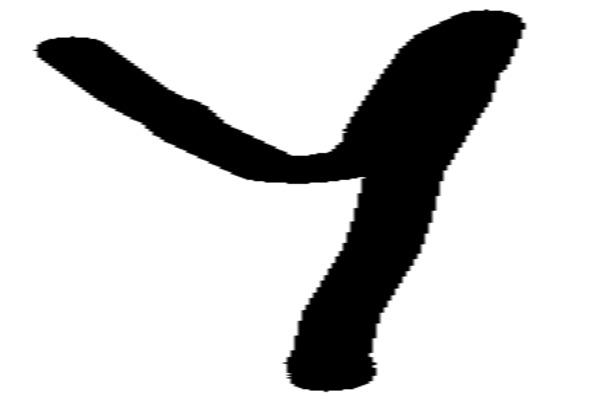Y: (25, 7, 555, 399)
